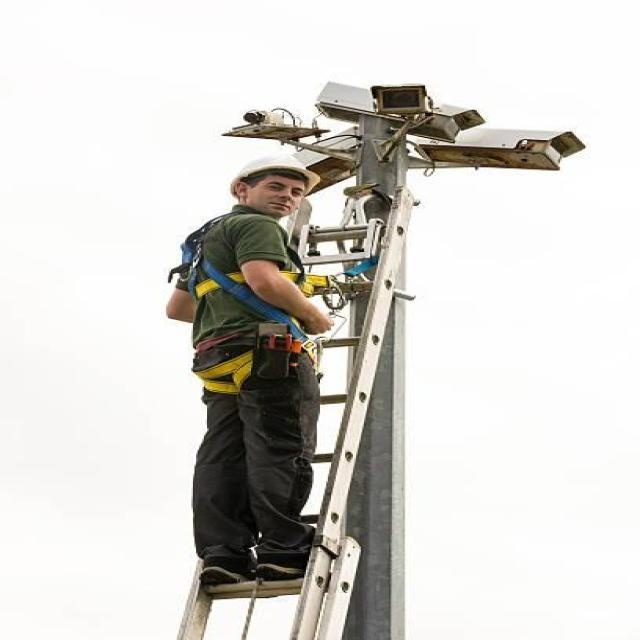Arnes_seguridad: (175, 209, 305, 398)
